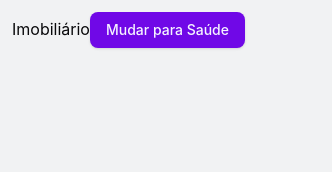
Test: DomainContext › propagates default real_estate manifest and updates when domain changes
The image size is (332, 172).
Check: the text with test id "active-domain-name" reads "Imobiliário", box [12,19,90,39]
Click the button "Mudar para Saúde": point(168, 30) [90,12,245,48]
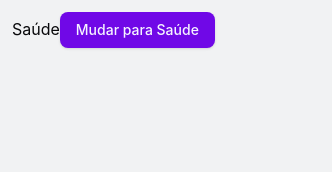
Check: the text with test id "active-domain-name" reads "Saúde", box [12,19,60,39]
